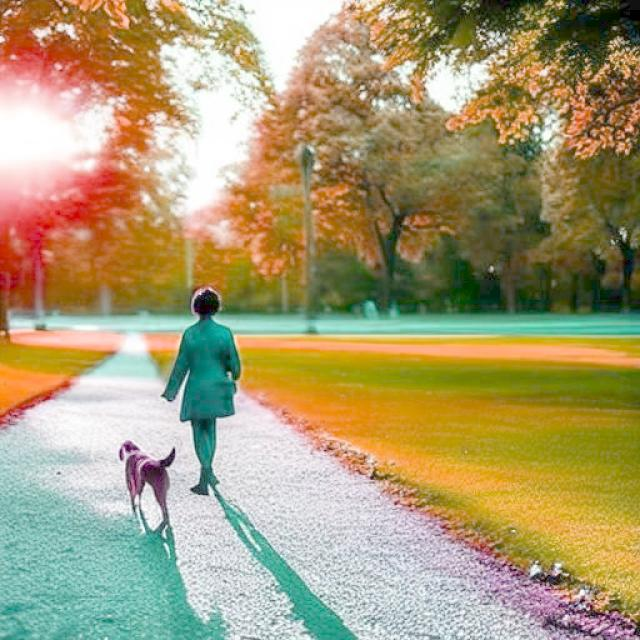Unleashed_Dog: (117, 390, 235, 520)
